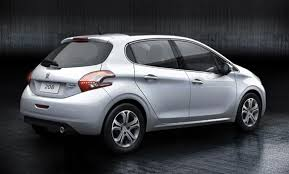car: (19, 33, 268, 146)
